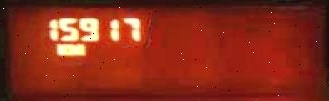1: (45, 16, 57, 40), (107, 17, 118, 40)
5: (57, 16, 77, 40)
7: (120, 16, 140, 40)
9: (75, 15, 99, 40)
X: (67, 41, 85, 54), (53, 41, 67, 55)
